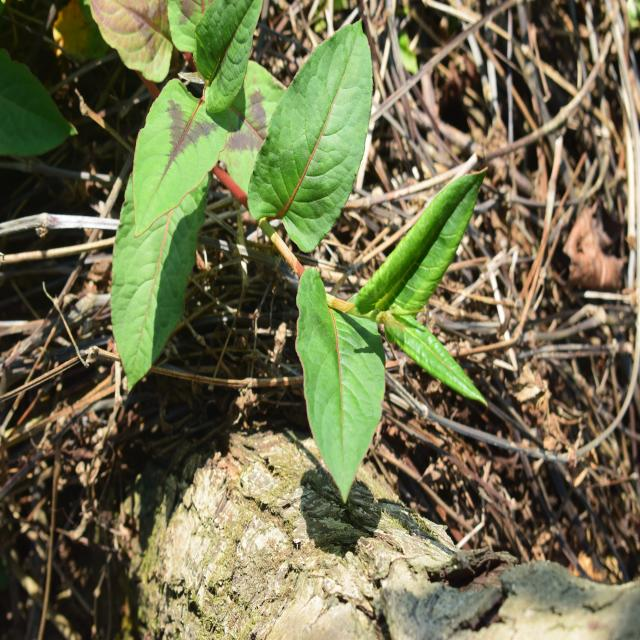Chinese_knotweed: (249, 36, 476, 457), (96, 14, 248, 376)
